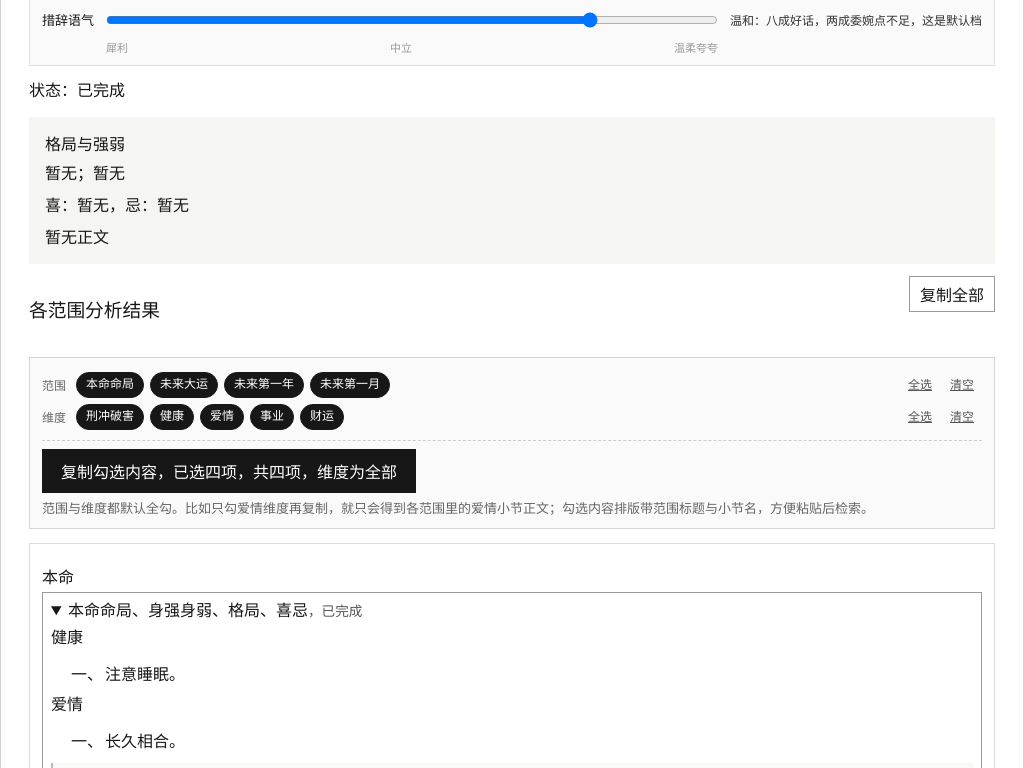
Test case: 复制回执的项数必须等于正文里真的有几项 › 取消某范围后点「复制全部」：回执共四项，正文也确有四节
(page scrolled)
Check: the button "复制勾选内容" is shown, box [42, 449, 416, 493]
Click the button "本命命局": click(110, 385) [76, 372, 144, 398]
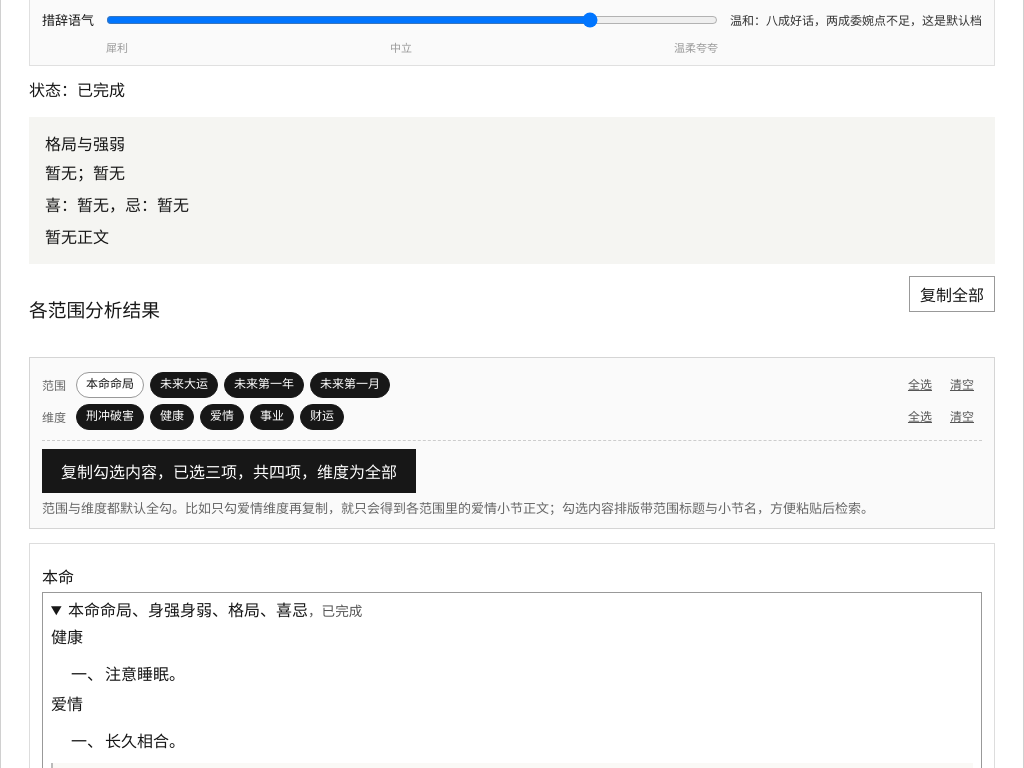
Click the button "复制全部": click(952, 294) [909, 276, 995, 312]
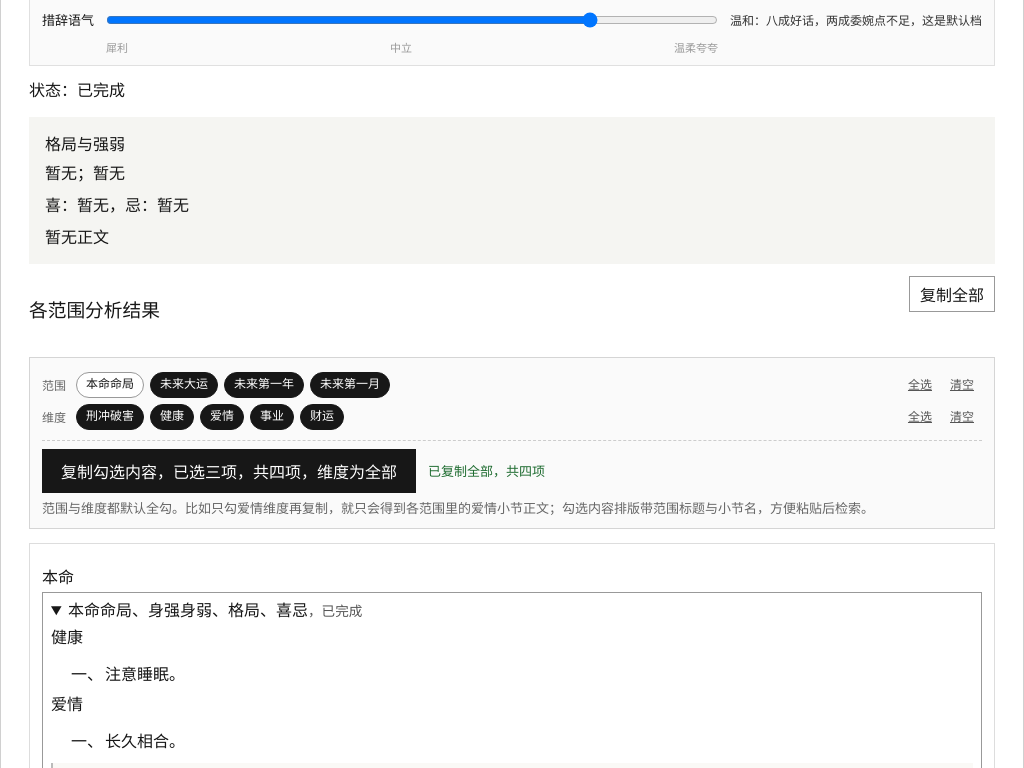
Check: the message "已复制全部，共四项" is shown, box [428, 461, 545, 480]
